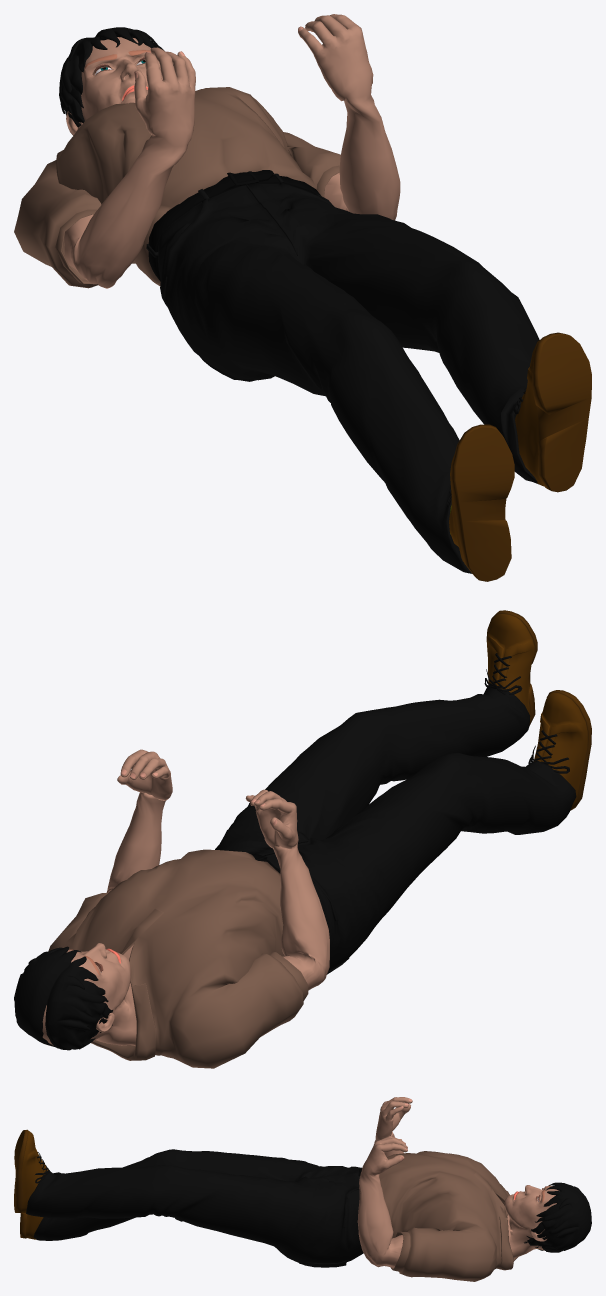
File: bezdomovecModel.obj
3 views of the same model, one above another, from view 1: azimuth 30°, elevation 25°; view 2: azimuth 150°, elevation 25°; view 3: azimuth 270°, elevation 25° (orthographic). The views are drawn at different scales.
Parts seen in each view (by area): view 1: Figure 1_pants, Figure 1_skin, Figure 1_shirt, Figure 1_souls, Figure 1_belt, Figure 1_shoes; view 2: Figure 1_pants, Figure 1_shirt, Figure 1_skin, Figure 1_shoes, Figure 1_souls, Figure 1_laces; view 3: Figure 1_pants, Figure 1_shirt, Figure 1_skin, Figure 1_shoes, Figure 1_souls.
Boxes of the visible parts, bbox=[...] form: Figure 1_pants: bbox=[59, 27, 539, 573]; Figure 1_skin: bbox=[64, 14, 400, 288]; Figure 1_shirt: bbox=[14, 87, 340, 288]; Figure 1_souls: bbox=[450, 332, 591, 581]; Figure 1_belt: bbox=[148, 170, 320, 281]; Figure 1_shoes: bbox=[449, 336, 544, 562]; Figure 1_pants: bbox=[14, 683, 576, 1050]; Figure 1_shirt: bbox=[48, 849, 308, 1068]; Figure 1_skin: bbox=[42, 749, 329, 1045]; Figure 1_shoes: bbox=[486, 614, 587, 808]; Figure 1_souls: bbox=[487, 610, 591, 810]; Figure 1_laces: bbox=[484, 653, 569, 773]; Figure 1_pants: bbox=[26, 1149, 591, 1267]; Figure 1_shirt: bbox=[379, 1151, 517, 1281]; Figure 1_skin: bbox=[357, 1097, 558, 1267]; Figure 1_shoes: bbox=[21, 1130, 47, 1239]; Figure 1_souls: bbox=[14, 1129, 28, 1238].
Bounding box in the file's own units: 0.2327 × 0.206 × 0.7203.
